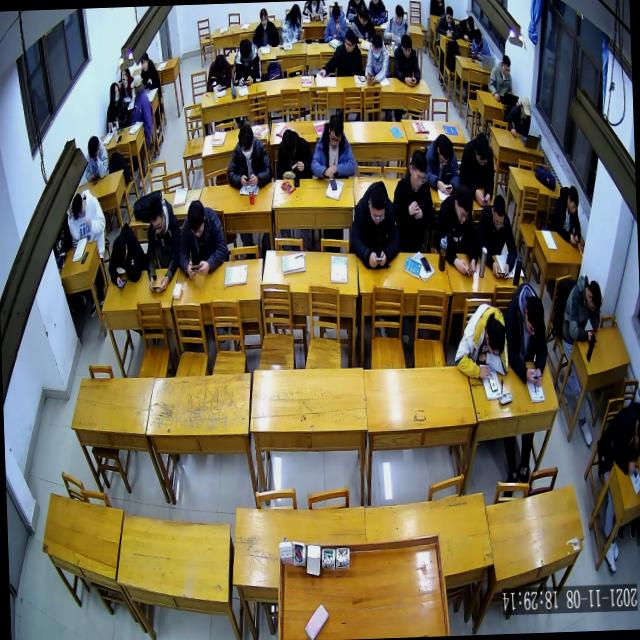bow: (454, 304, 509, 379), (106, 223, 146, 290), (457, 16, 475, 42)
down: (524, 296, 544, 336), (408, 150, 426, 190), (484, 319, 504, 355), (453, 188, 472, 224), (368, 187, 386, 224), (188, 202, 205, 238), (238, 126, 254, 160), (491, 198, 506, 230), (584, 282, 600, 312), (328, 116, 343, 148), (111, 236, 128, 263), (474, 134, 488, 166), (282, 130, 297, 158), (150, 206, 164, 235), (436, 136, 449, 166), (72, 195, 85, 218), (568, 187, 578, 214), (400, 36, 412, 58), (372, 34, 382, 59), (88, 137, 99, 159), (238, 40, 250, 60), (214, 56, 224, 74), (358, 8, 368, 26), (331, 5, 340, 22), (393, 7, 402, 24), (473, 31, 482, 47), (445, 7, 453, 23), (466, 16, 473, 30)
lookup: (520, 98, 530, 119), (502, 56, 511, 76), (260, 10, 268, 27), (140, 56, 148, 72), (120, 70, 128, 80)
sit: (503, 283, 548, 387), (349, 180, 398, 270), (392, 150, 434, 251), (433, 186, 478, 274), (178, 199, 226, 280), (144, 200, 182, 294), (476, 194, 518, 279), (596, 403, 640, 473), (560, 276, 604, 344), (226, 125, 272, 186), (310, 115, 354, 177), (460, 132, 494, 204), (67, 189, 106, 245), (425, 133, 460, 195), (318, 29, 362, 76), (275, 130, 312, 180), (552, 186, 582, 246), (392, 34, 420, 87), (363, 33, 390, 84), (232, 39, 262, 84), (130, 72, 152, 128), (105, 82, 129, 130), (84, 135, 108, 182), (488, 54, 512, 100), (252, 8, 280, 47), (322, 2, 348, 41), (506, 98, 532, 136), (206, 54, 232, 89), (281, 3, 304, 42), (350, 7, 375, 42), (384, 6, 408, 42), (435, 6, 458, 39), (140, 54, 160, 90), (470, 29, 490, 60), (118, 68, 132, 96)
